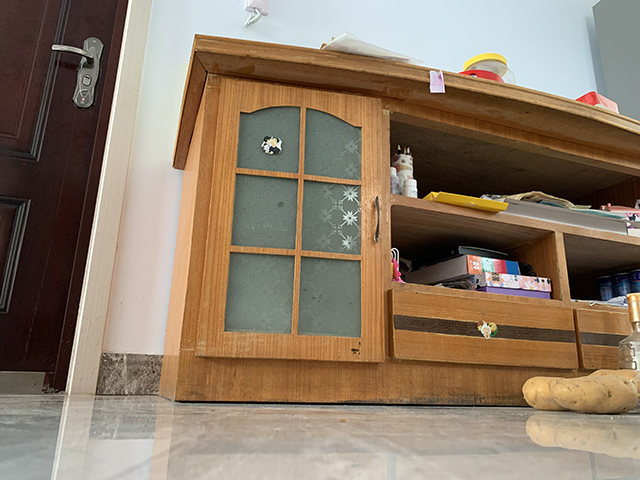cabinet: (157, 31, 640, 409)
